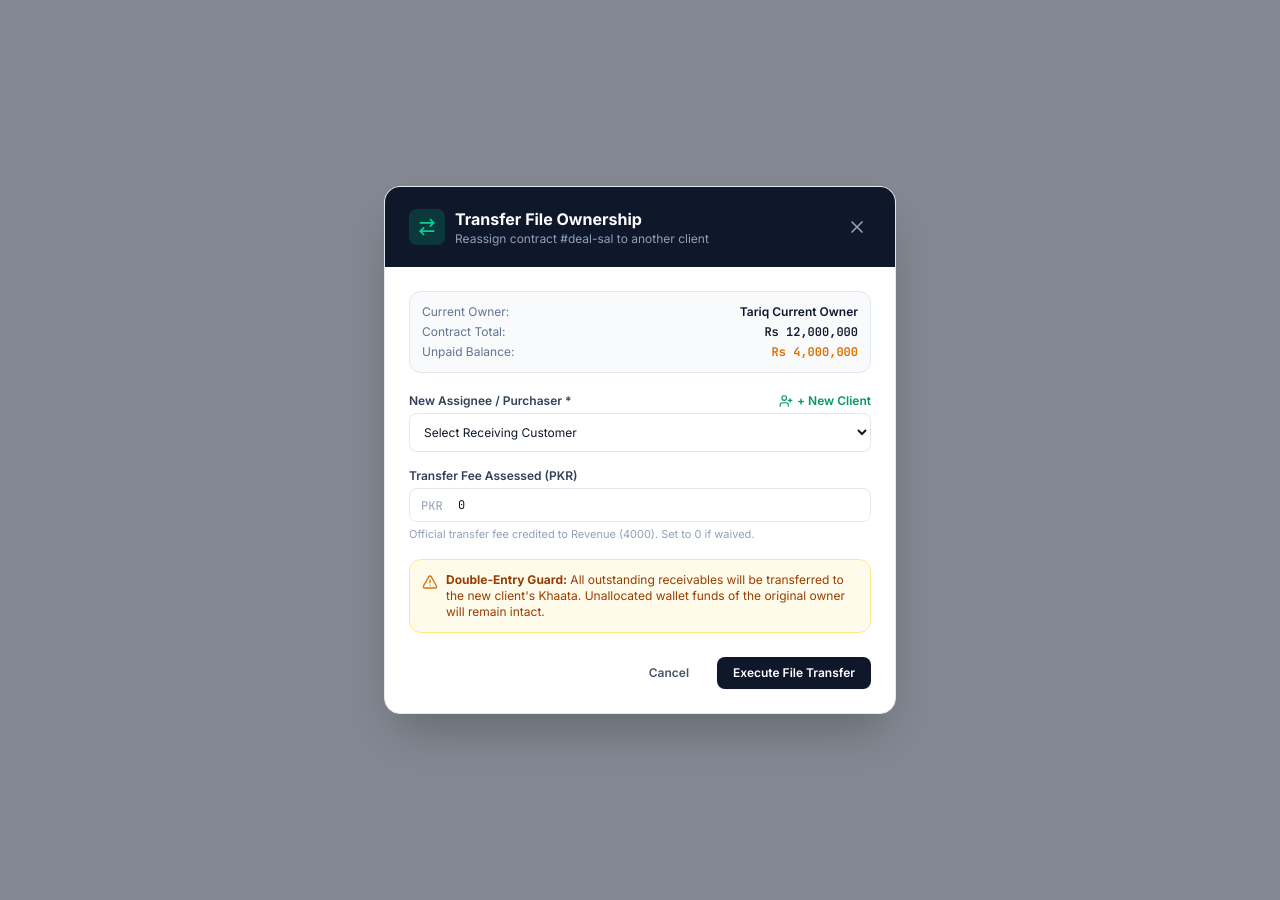
Test: TransferFileModal Component › 6. displays server error message when transfer mutation fails
This screenshot has width=1280, height=900.
Select "Chaudri Aslam (03002222222)" in the dropdown at x=640, y=433, box [409,413,871,452]
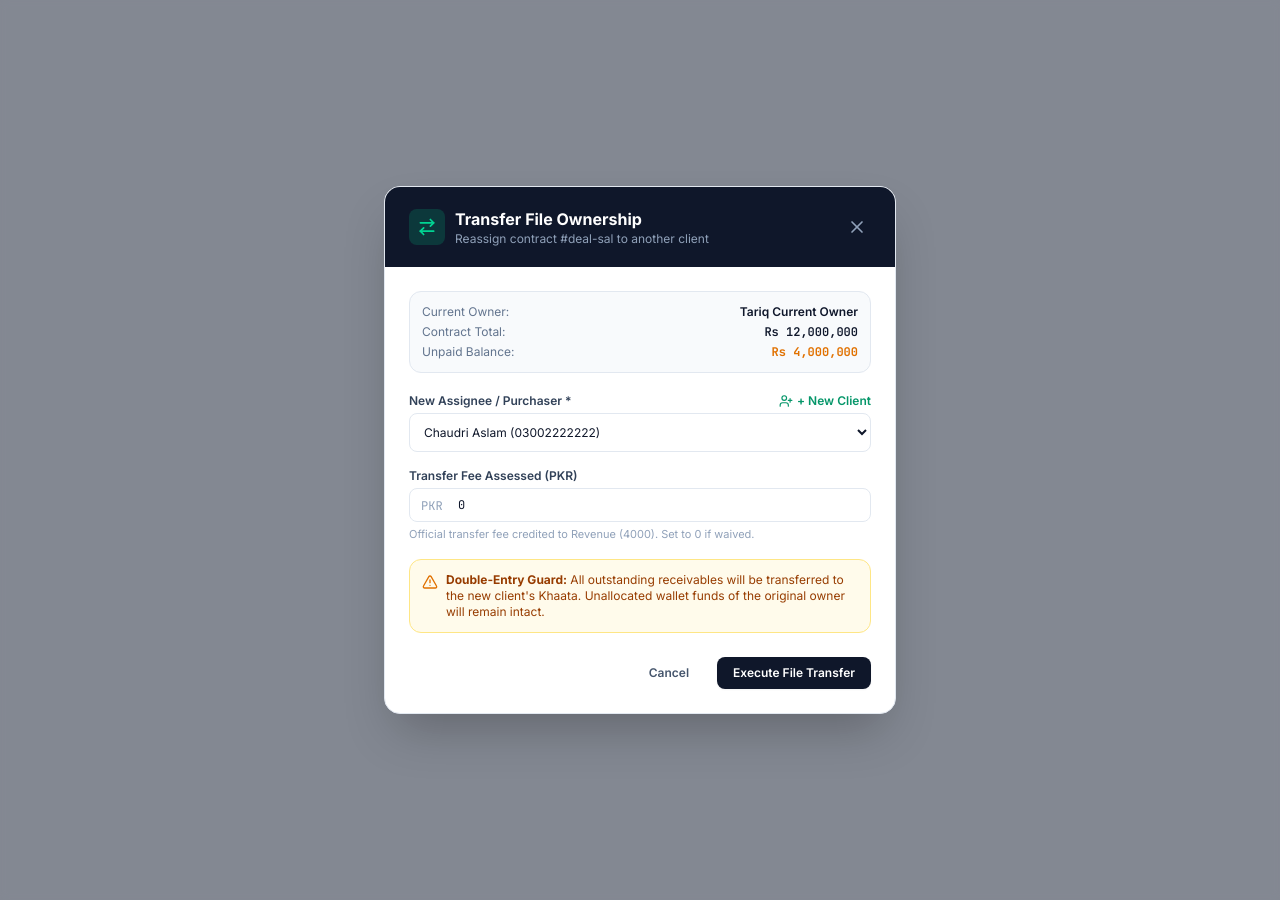
Click the button "Execute File Transfer" at x=794, y=673, box [717,657,871,689]
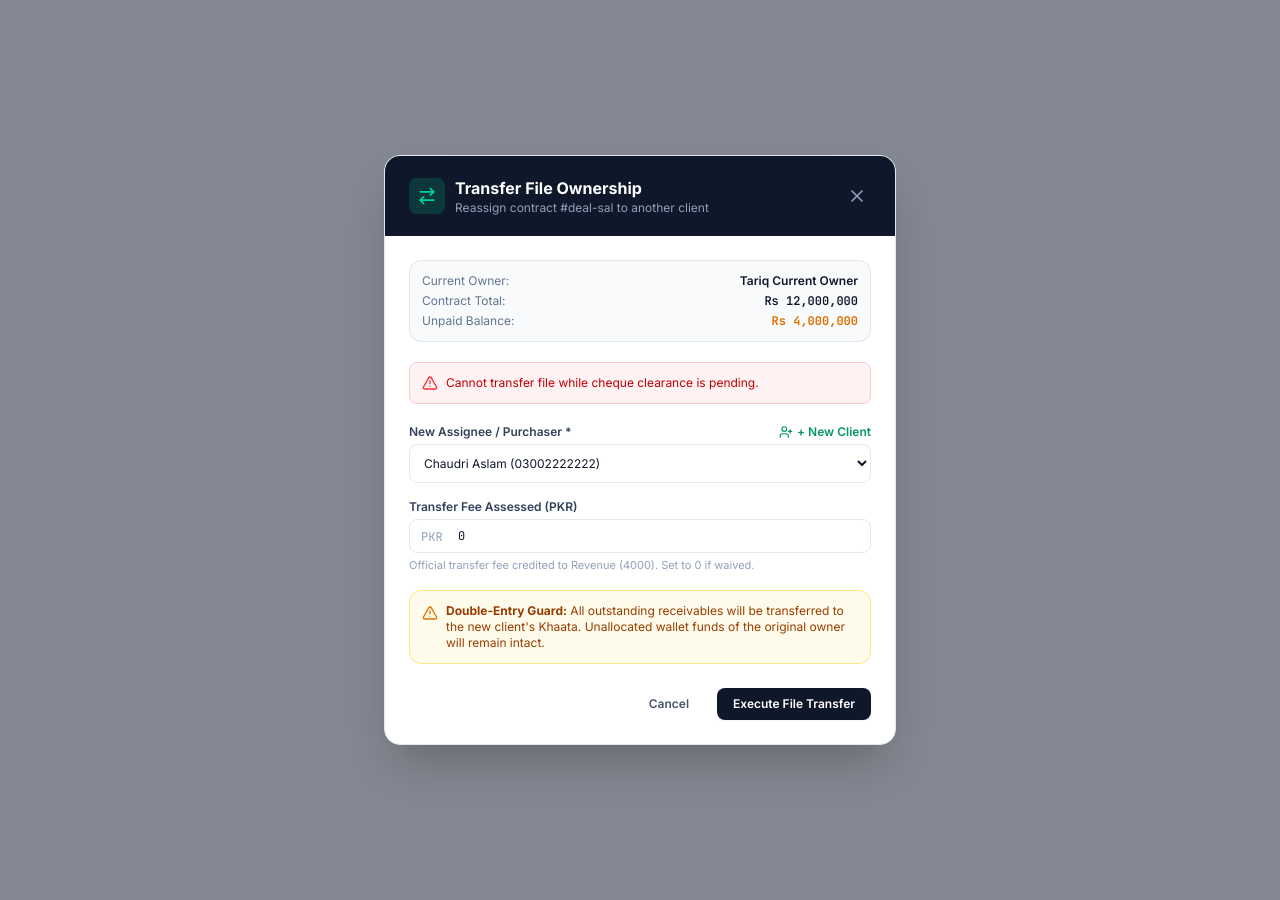
Expected: the text "Cannot transfer file while cheque clearance is pending." is shown, [446,375,759,391]
